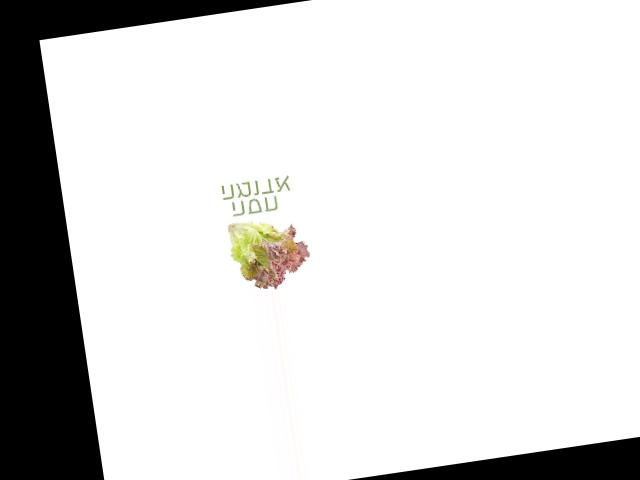lettuce: (218, 210, 315, 296)
